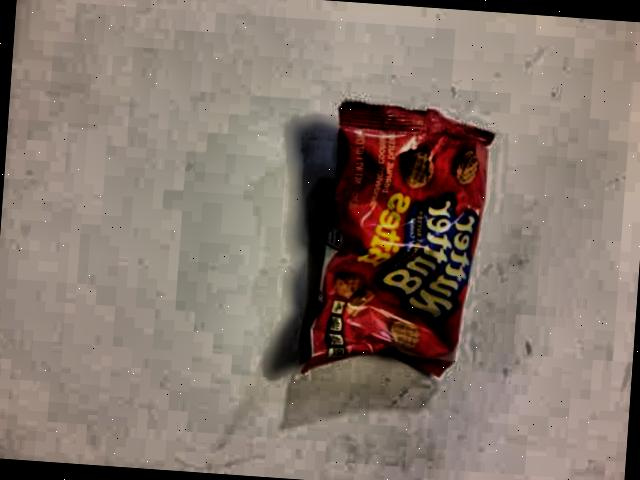Plastic: (281, 73, 506, 400)
